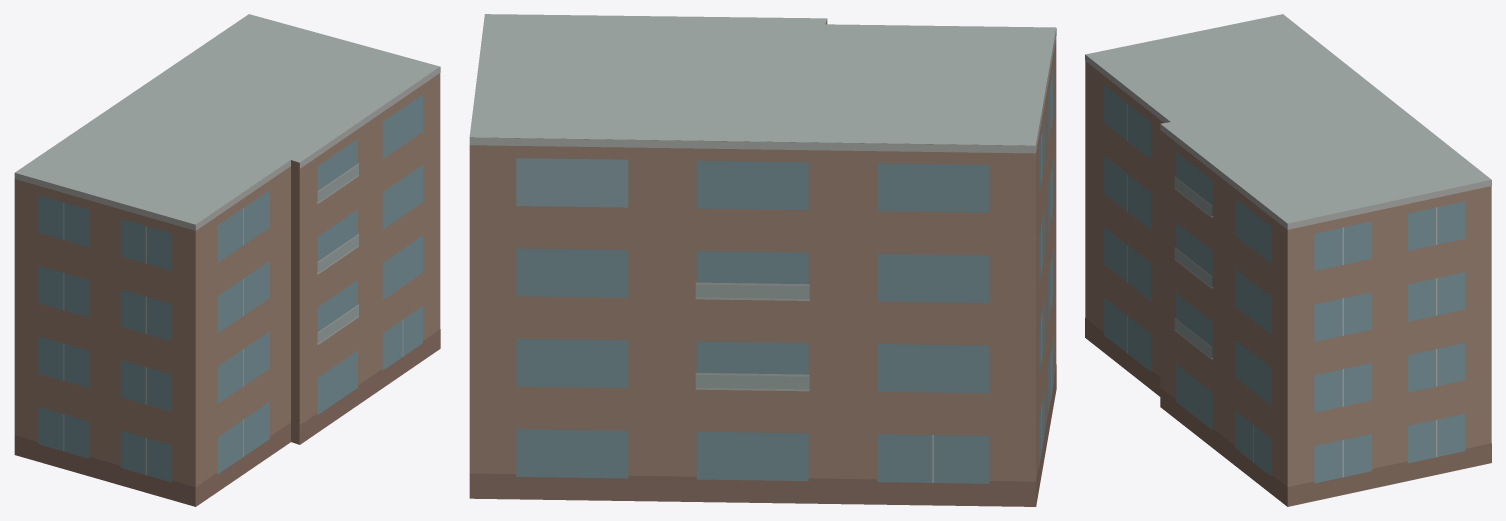
File: survey-upis-33047353.glb
3 views of the same model, side by side, from view 1: azimuth 30°, elevation 25°; view 2: azimuth 150°, elevation 25°; view 3: azimuth 270°, elevation 25° (orthographic). The views are drawn at different scales.
Visible parts, largest first — view 1: survey-upis-33047353.tmp; view 2: survey-upis-33047353.tmp; view 3: survey-upis-33047353.tmp.
Part boxes in pixels (bbox=[...]): survey-upis-33047353.tmp: bbox=[14, 14, 440, 506]; survey-upis-33047353.tmp: bbox=[469, 14, 1056, 506]; survey-upis-33047353.tmp: bbox=[1085, 14, 1491, 506].
Bounding box in the file's own units: 17.79 × 11.2 × 14.59.
